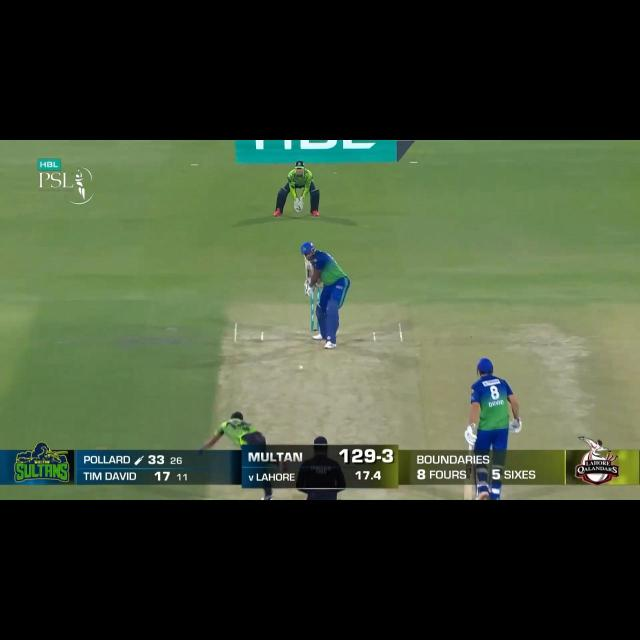bat: (302, 254, 314, 280), (462, 484, 478, 500)
toe: (303, 255, 310, 262)
